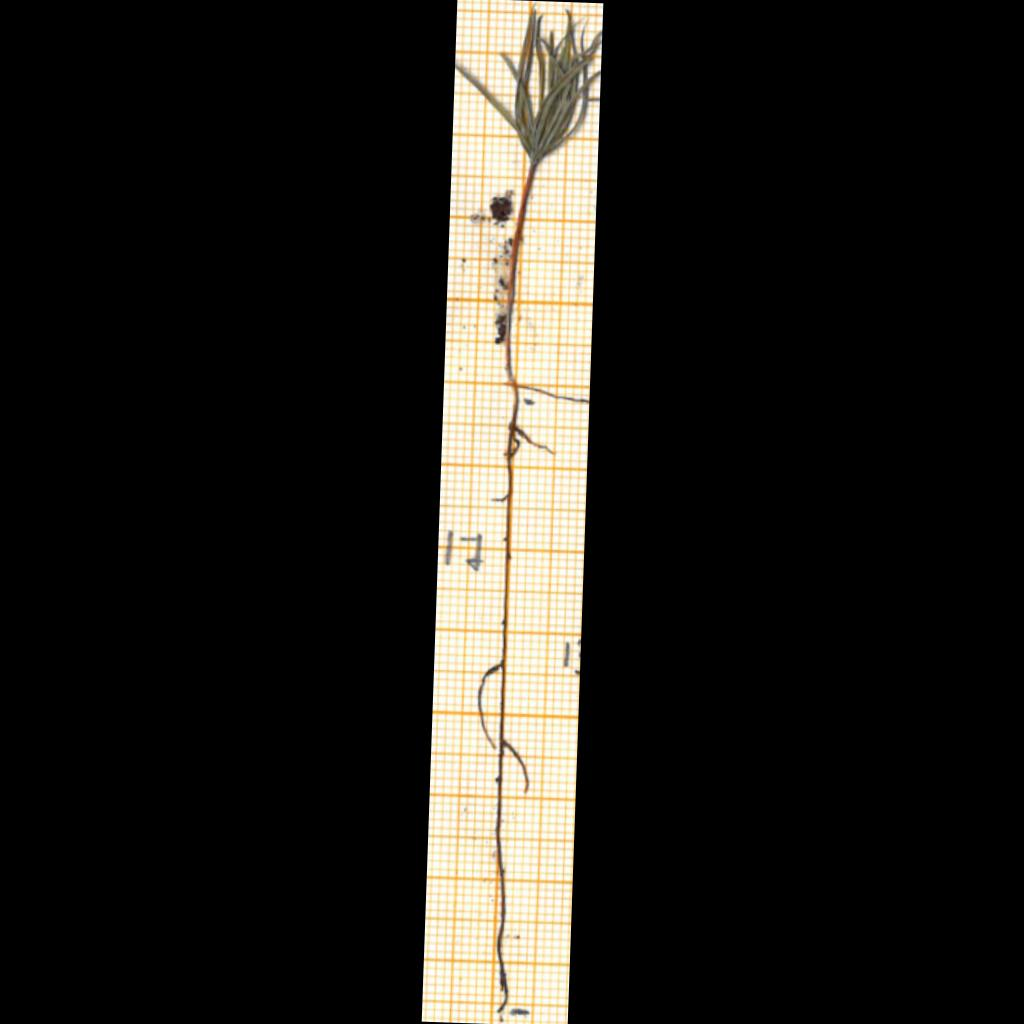flowerPinus: (455, 9, 601, 166)
rootPinus: (479, 392, 552, 1016)
stemPinus: (505, 165, 535, 394)
